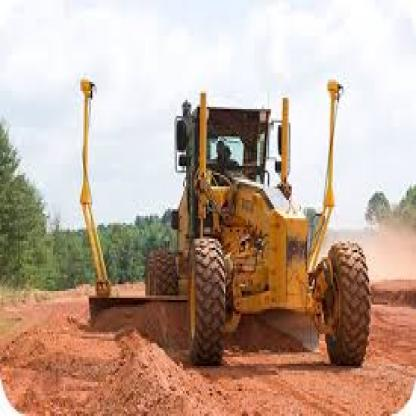bull_dozer/loader/grader: (64, 57, 367, 382)
